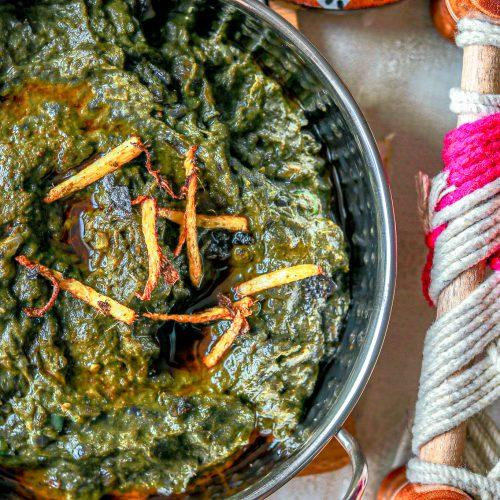saag: (3, 4, 307, 500)
